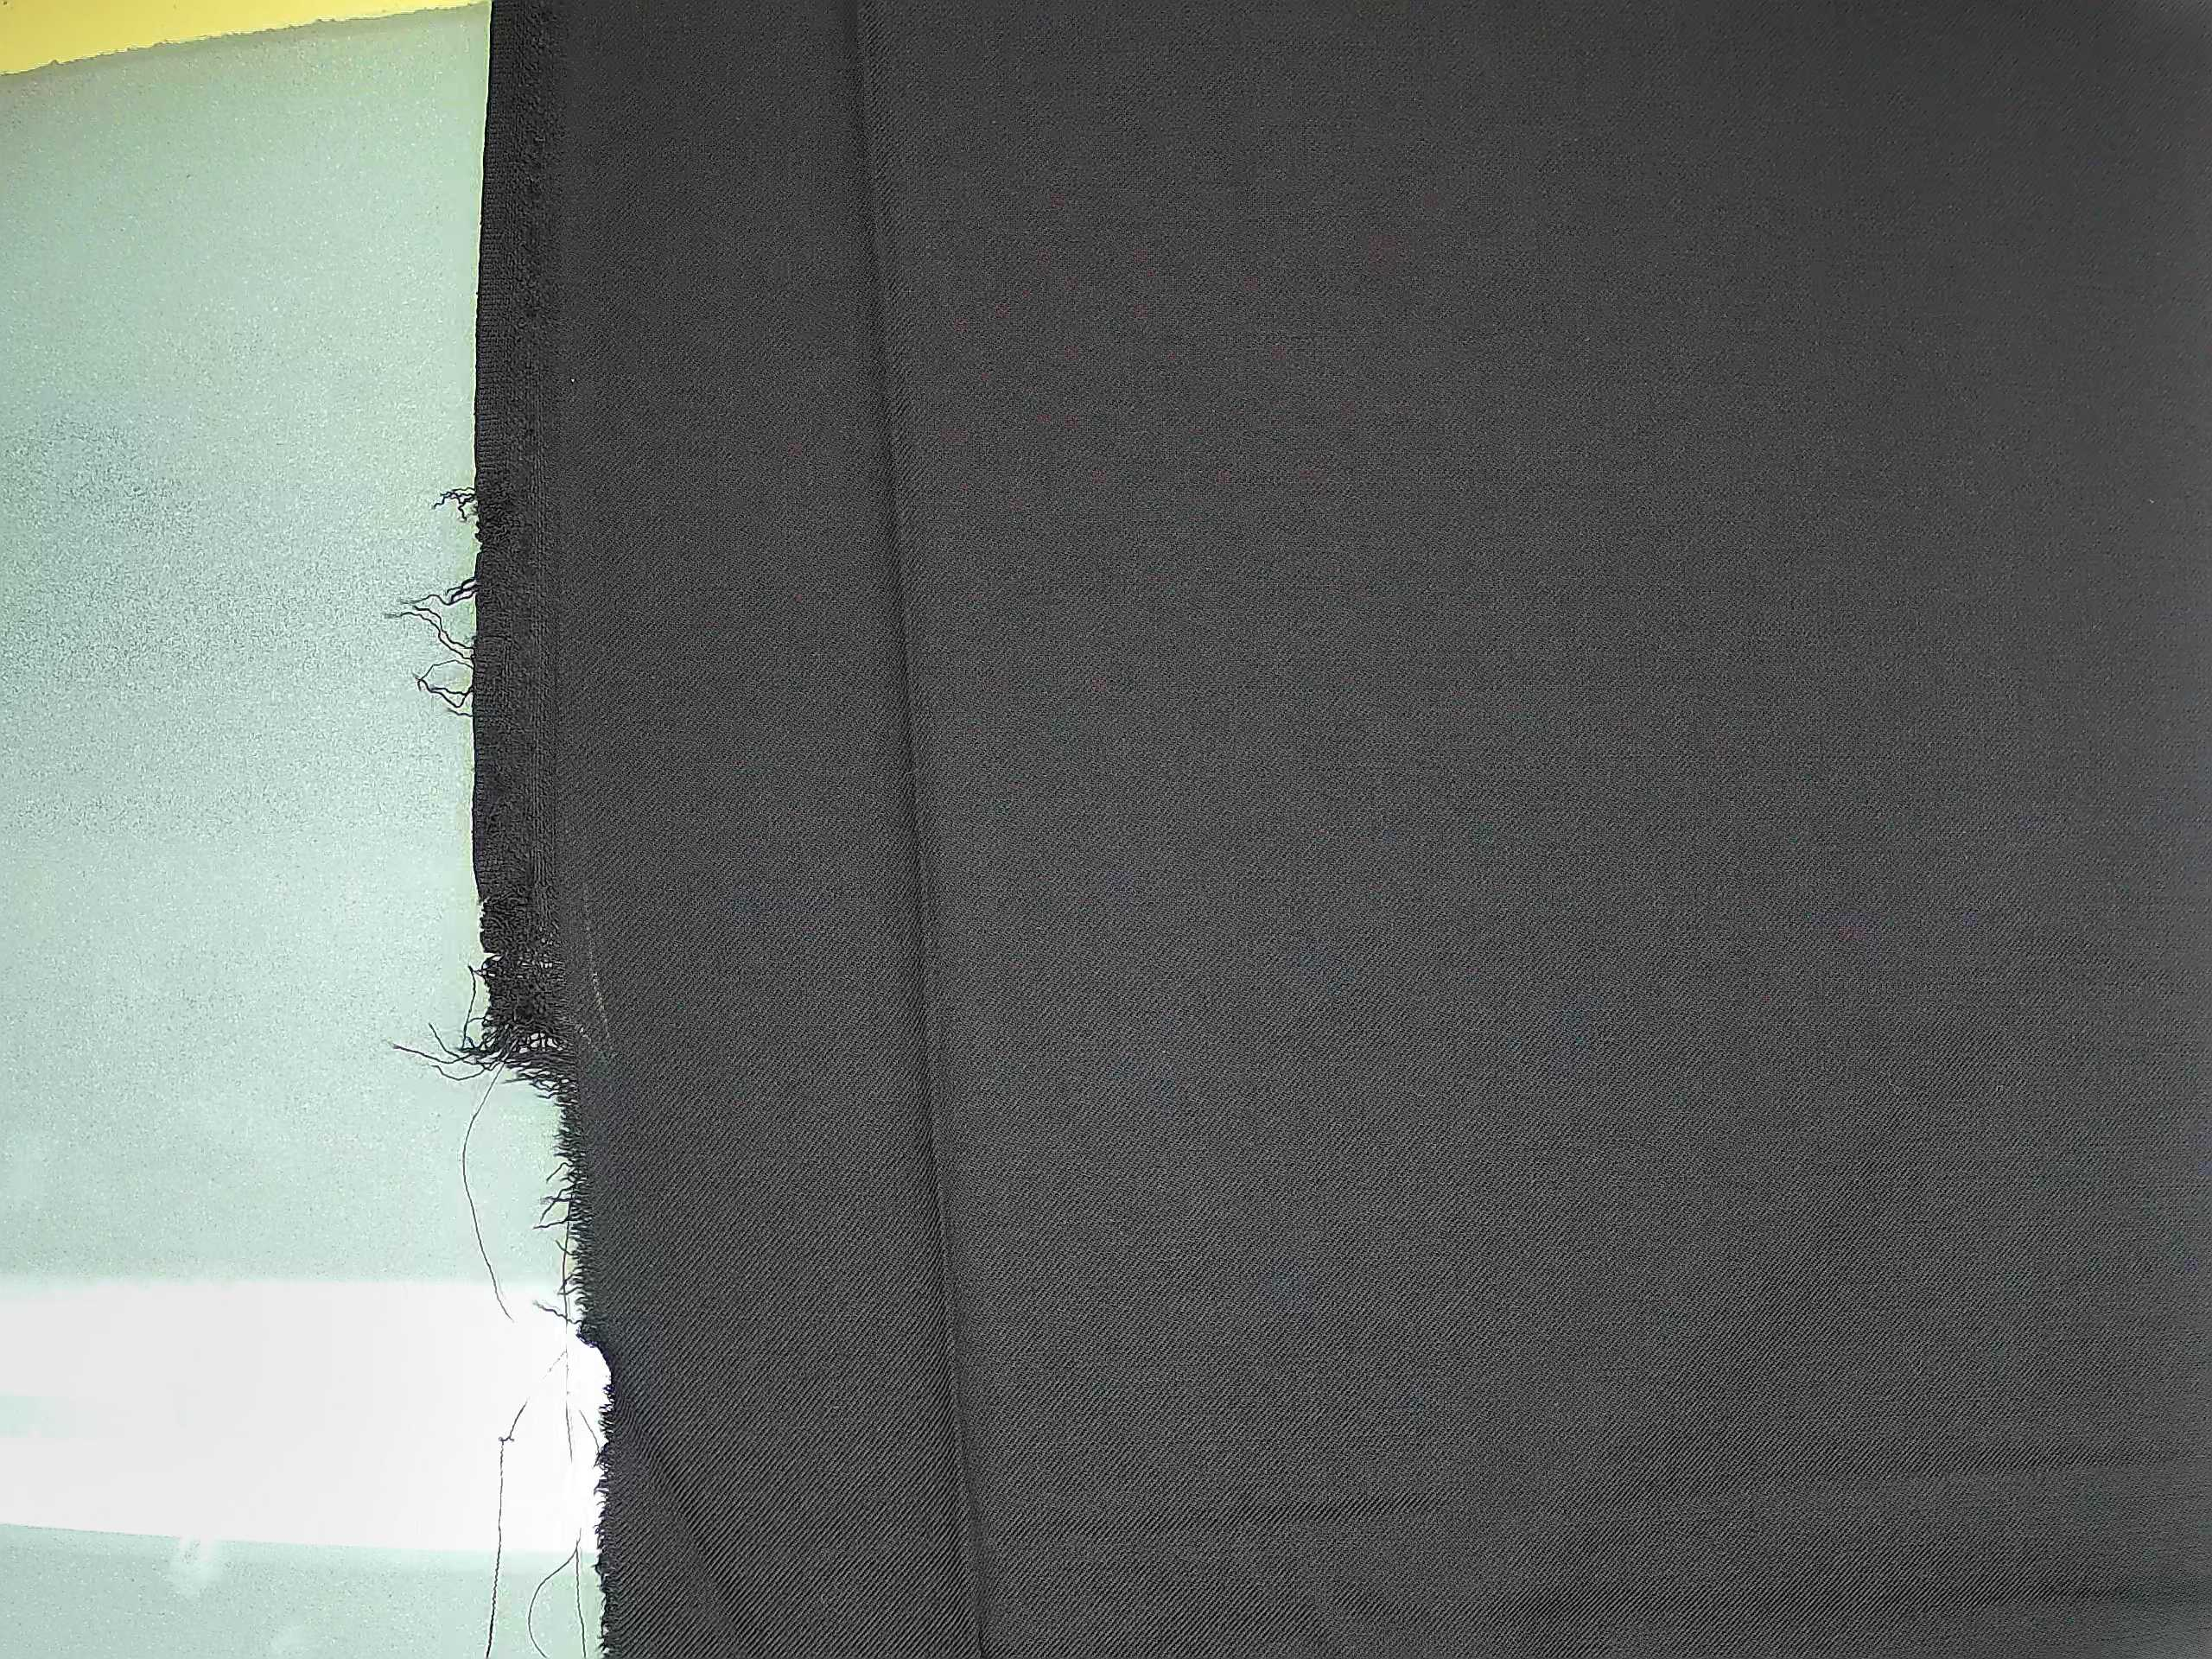others: (427, 829, 655, 1645)
